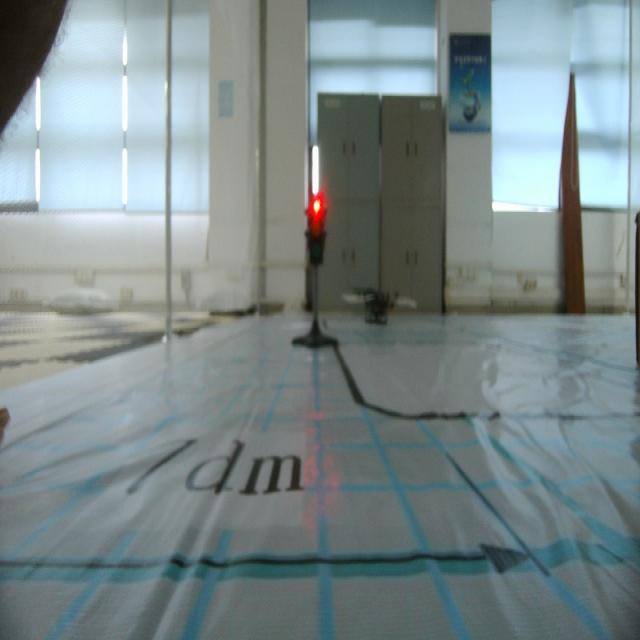red: (304, 189, 326, 267)
